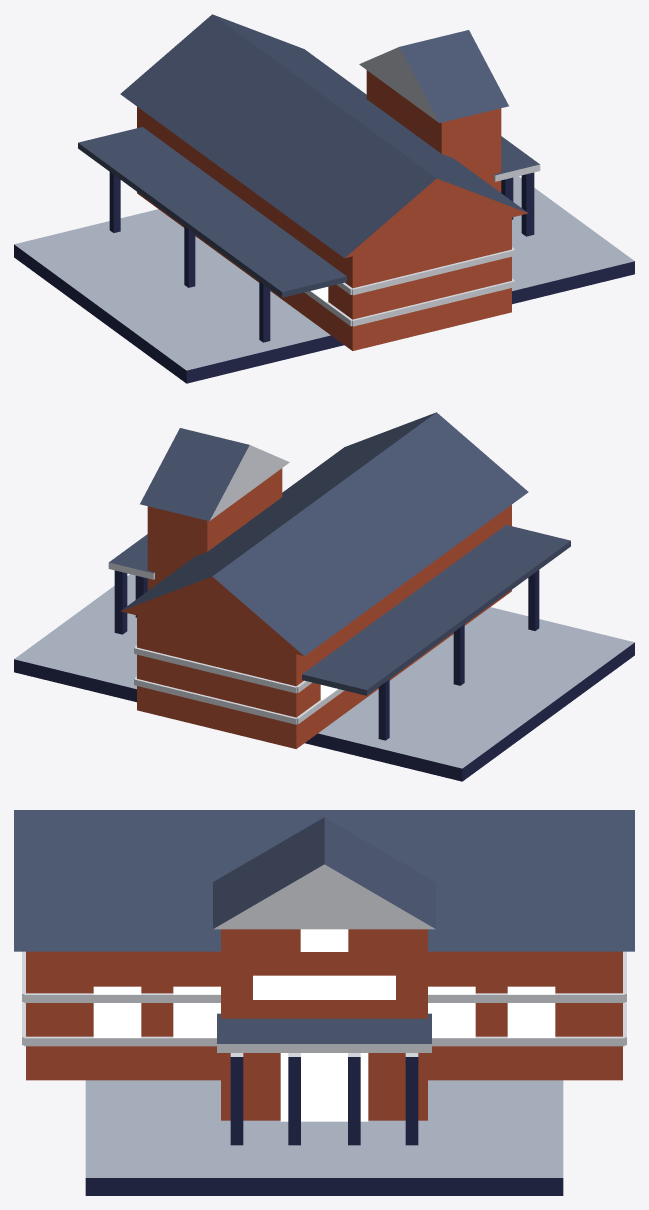
Rendered from station-classic-tra.glb.
The picture shows the model from 3 angles, top to bottom: view 1: azimuth 30°, elevation 25°; view 2: azimuth 150°, elevation 25°; view 3: azimuth 270°, elevation 25°; orthographic projection. The views are drawn at different scales.
Parts seen in each view (by area): view 1: station-classic-tra_root; view 2: station-classic-tra_root; view 3: station-classic-tra_root.
Boxes of the visible parts, x1=… form: station-classic-tra_root: x1=14, y1=14, x2=634, y2=383; station-classic-tra_root: x1=14, y1=412, x2=634, y2=781; station-classic-tra_root: x1=14, y1=810, x2=634, y2=1195.
Bounding box in the file's own units: 18 × 7.7 × 15.6.
2 materials, 2 textured.
